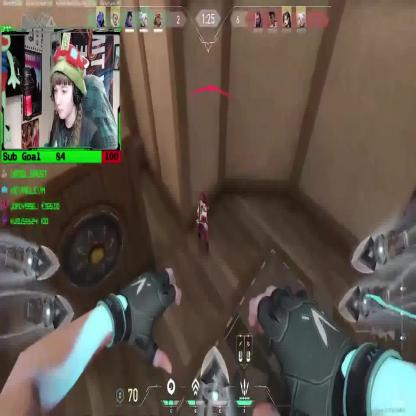enemy: (192, 192, 210, 252)
enemy_head: (199, 194, 205, 208)
